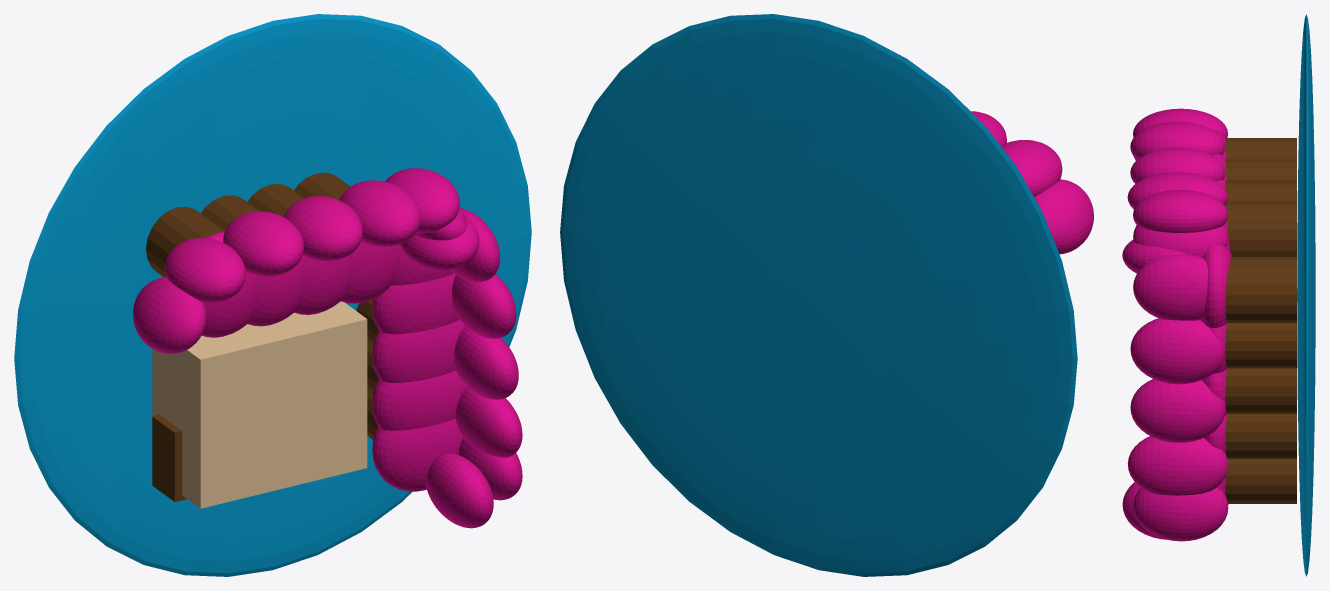
File: tinker.obj
The picture shows the model from 3 angles, left to right: view 1: azimuth 30°, elevation 25°; view 2: azimuth 150°, elevation 25°; view 3: azimuth 270°, elevation 25°; orthographic projection. The views are drawn at different scales.
Visible parts, largest first — view 1: group_0_40919, group_0_14093196, group_0_14860437, group_0_6306067; view 2: group_0_40919, group_0_14093196; view 3: group_0_14093196, group_0_6306067, group_0_40919.
Part boxes in pixels (box(x1,y1,x2,y2)): group_0_40919: box(14, 14, 531, 576); group_0_14093196: box(133, 168, 522, 528); group_0_14860437: box(152, 301, 367, 508); group_0_6306067: box(146, 172, 378, 501); group_0_40919: box(560, 14, 1077, 576); group_0_14093196: box(971, 111, 1093, 254); group_0_14093196: box(1122, 108, 1232, 541); group_0_6306067: box(1225, 138, 1296, 503); group_0_40919: box(1297, 14, 1315, 576).
Bounding box in the file's own units: 211 × 214 × 73.06.
